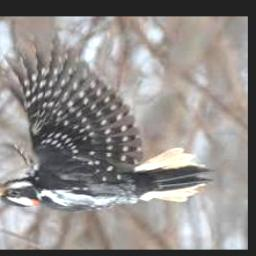Woodpecker: (0, 39, 213, 213)
